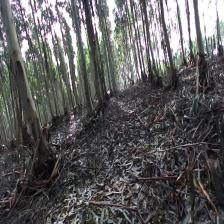trunk: (0, 3, 51, 156), (71, 4, 94, 114), (160, 3, 176, 78), (193, 3, 207, 74)
